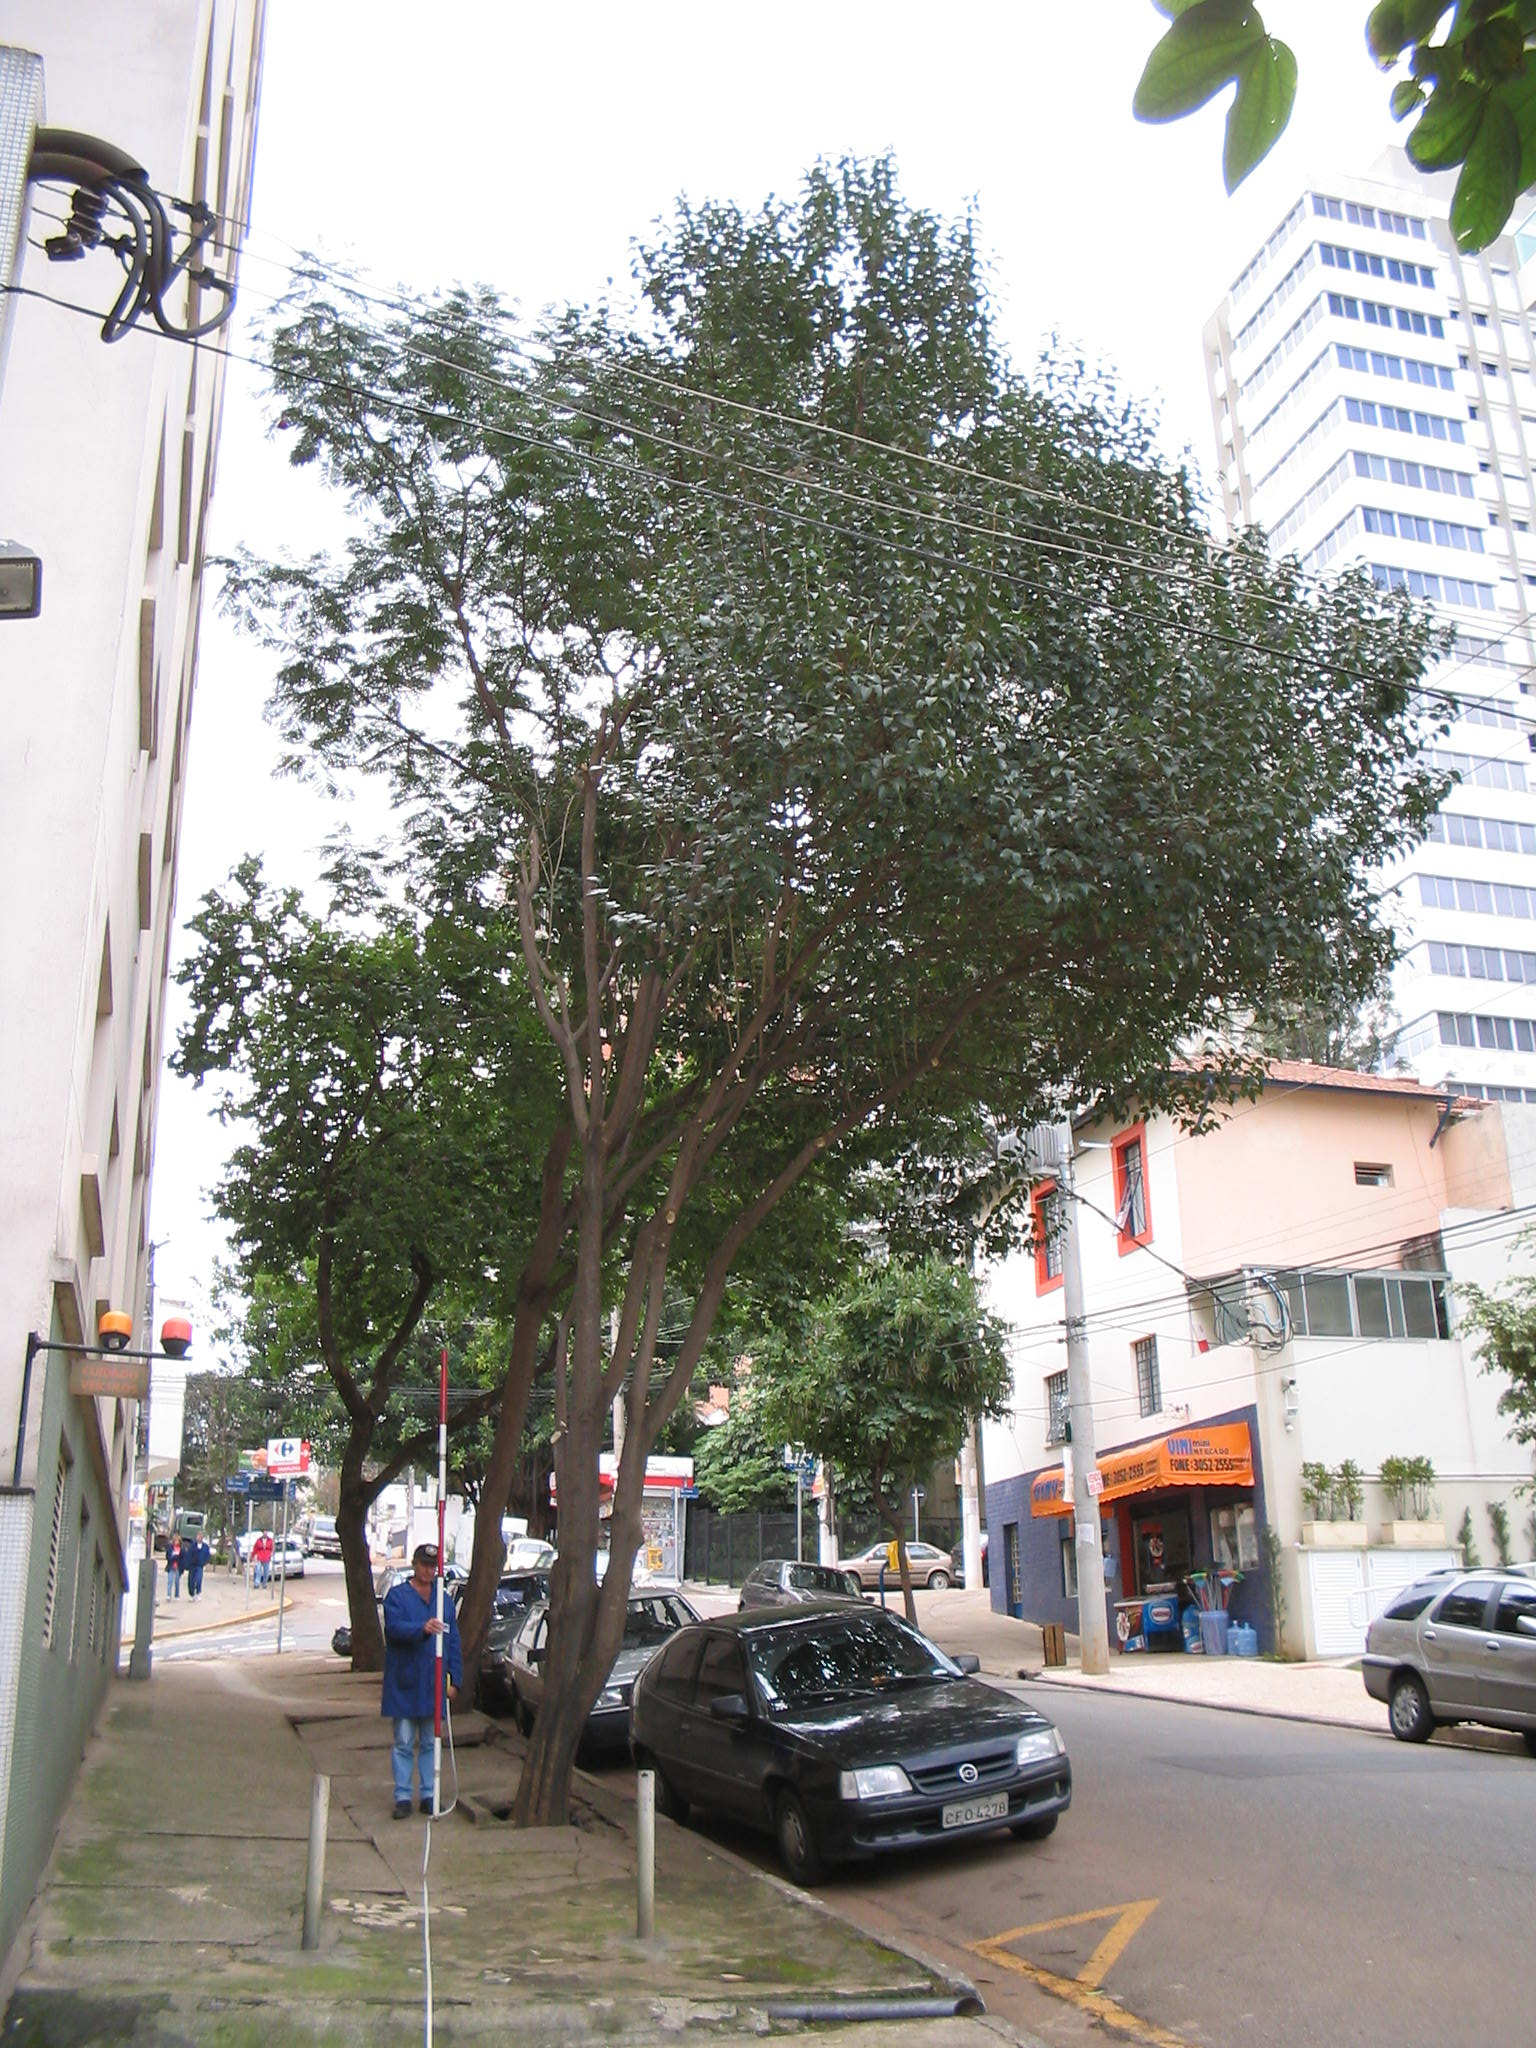crown: (239, 166, 1465, 1253), (710, 1290, 1031, 1550)
stem: (495, 1625, 645, 1821)
stick: (405, 1350, 466, 1817)
tree: (231, 161, 1467, 1832), (703, 1284, 1031, 1640)
